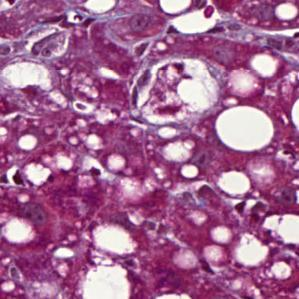ballooning: (131, 57, 220, 127)
